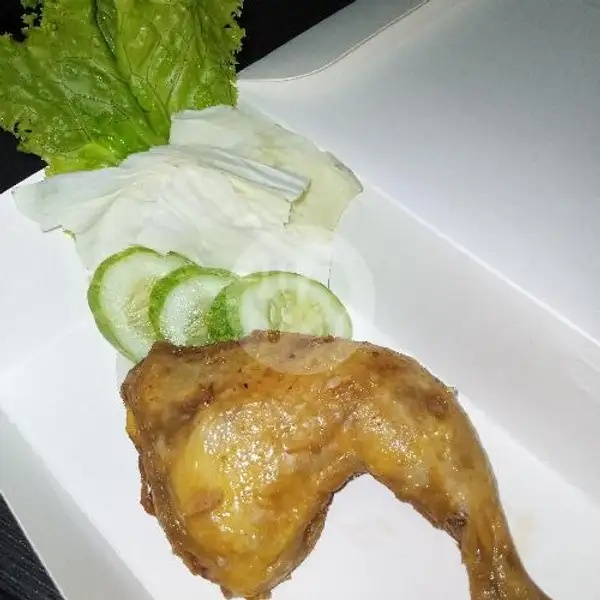ayam_goreng: (80, 321, 554, 600)
